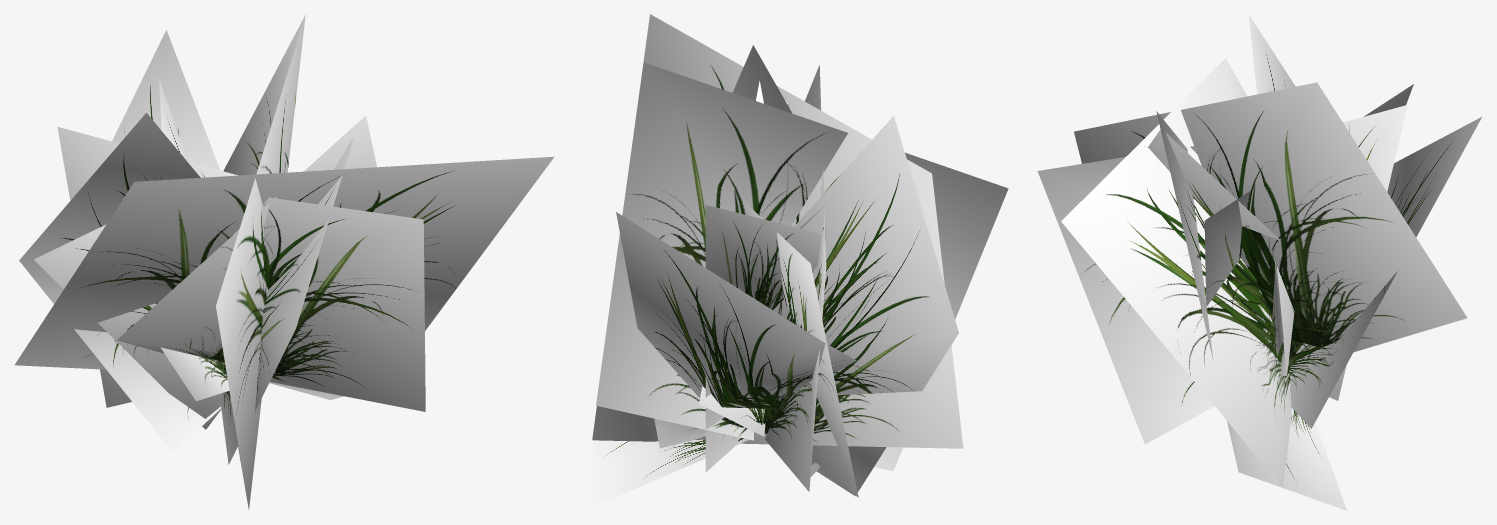
File: Grass_32.fbx
3 views of the same model, side by side, from view 1: azimuth 30°, elevation 25°; view 2: azimuth 150°, elevation 25°; view 3: azimuth 270°, elevation 25° (orthographic). The views are drawn at different scales.
Parts seen in each view (by area): view 1: Grass_32; view 2: Grass_32; view 3: Grass_32.
Boxes of the visible parts, <box> form: Grass_32: <box>14,15,554,509</box>; Grass_32: <box>583,14,1008,510</box>; Grass_32: <box>1037,14,1481,510</box>.
Size of the model in its own units: 4381 by 4127 by 4069.
